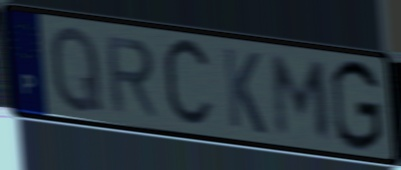C: (160, 34, 217, 134)
G: (328, 57, 385, 155)
K: (220, 44, 269, 138)
M: (270, 51, 333, 142)
Q: (48, 22, 106, 116)
R: (103, 34, 161, 120)
